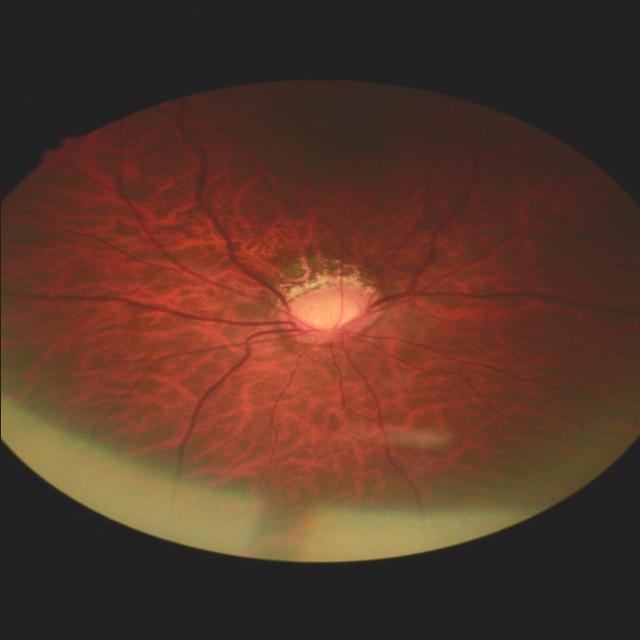cup: (291, 296, 363, 334)
disk: (275, 284, 379, 344)
